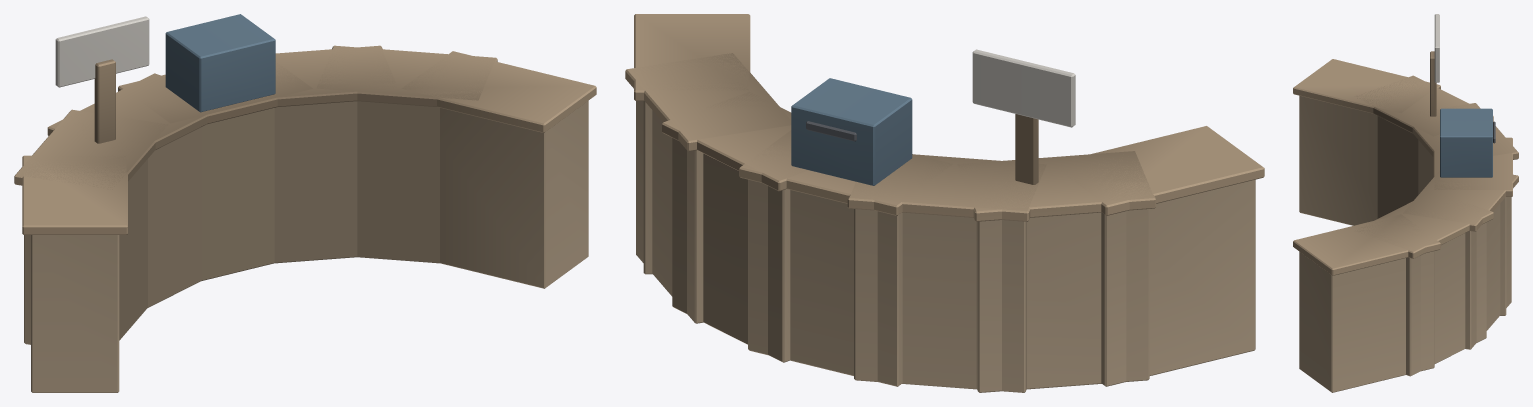
File: museum_curator_desk.glb
The picture shows the model from 3 angles, left to right: view 1: azimuth 30°, elevation 25°; view 2: azimuth 150°, elevation 25°; view 3: azimuth 270°, elevation 25°; orthographic projection. The views are drawn at different scales.
Size of the model in its own units: 3.76 by 1.75 by 1.7.
